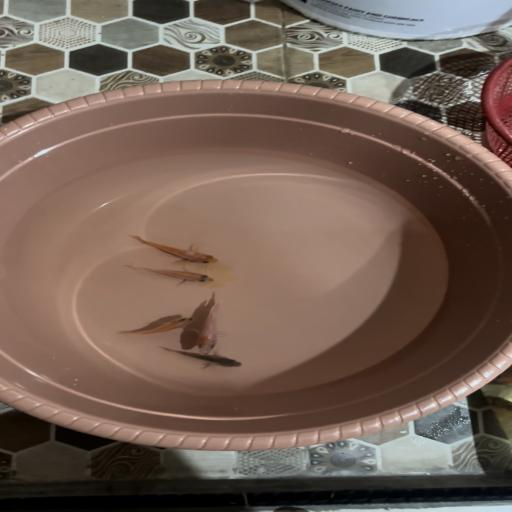nila: (129, 233, 227, 266), (190, 297, 230, 355), (126, 264, 220, 286), (156, 347, 250, 369), (121, 313, 194, 339)
